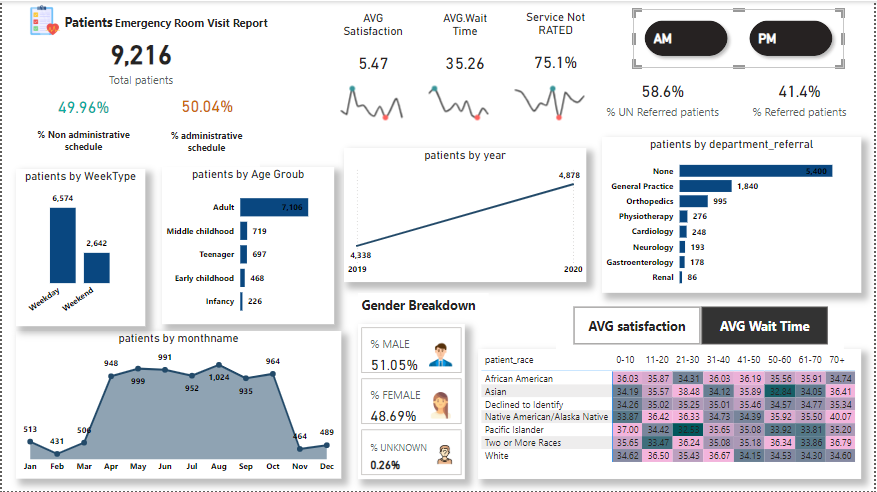

Layout of this report page (visuals, bound fields, positions):
{"tool":"powerbi","page":{"name":"Page 1","canvas":[1280,720],"ordinal":0},"visuals":[{"type":"card","fields":{"Values":["1_measurs.Total patients"]},"box":[64.7,33.8,279.2,104.3],"z":0},{"type":"card","fields":{"Values":["1_measurs.% administrative schedule"]},"box":[186.6,126.4,229.2,55.8],"z":1000},{"type":"card","fields":{"Values":["1_measurs.% non administrative schedule"]},"box":[20.6,127.8,198.4,55.8],"z":2000},{"type":"card","title":"AVG Satisfaction","fields":{"Values":["1_measurs.Avarage satisfaction score"]},"box":[480.5,14.7,129.3,113.1],"z":3000},{"type":"card","title":"Service Not RATED","fields":{"Values":["1_measurs.% NO Rating"]},"box":[749.4,13.2,127.8,114.6],"z":4000},{"type":"card","title":"AVG.Wait Time","fields":{"Values":["1_measurs.AVG Wait Time"]},"box":[623.8,14.7,111.7,113.1],"z":5000},{"type":"pivotTable","fields":{"Values":["1_measurs.AVG Wait Time"],"Rows":["patients datasets.patient_race"],"Columns":["patients datasets.AGE bins"]},"box":[699.4,511.3,562.8,191],"z":6000},{"type":"slicer","fields":{"Values":["Parameter.Parameter"]},"box":[814,442.3,423.2,69.1],"z":7000},{"type":"clusteredBarChart","title":"patients by Age Groub","fields":{"Category":["patients datasets.Age Groub"],"Y":["1_measurs.Total patients"]},"box":[235.1,243.9,252.7,230.7],"z":8000},{"type":"areaChart","title":"patients by monthname","fields":{"Y":["1_measurs.Total patients"],"Category":["date.monthname"]},"box":[20.6,484.9,477.6,217.5],"z":9000},{"type":"lineChart","title":"patients by year","fields":{"Category":["date.year"],"Y":["1_measurs.Total patients"]},"box":[502.5,216,355.6,196.9],"z":10000},{"type":"advancedSlicerVisual","fields":{"Values":["patients datasets.moment"]},"box":[927.2,11.8,310,86.7],"z":11000},{"type":"textbox","box":[35.3,182.2,169,61.7],"z":12000},{"type":"textbox","box":[221.9,183.7,157.2,60.2],"z":13000},{"type":"clusteredBarChart","title":"patients by department_referral","fields":{"Y":["1_measurs.Total patients"],"Category":["patients datasets.department_referral"]},"box":[881.6,199.8,380.6,229.2],"z":14000},{"type":"card","fields":{"Values":["1_measurs.% UN Referred patients"]},"box":[877.2,101.4,186.6,80.8],"z":15000},{"type":"card","fields":{"Values":["1_measurs.% Referred patients"]},"box":[1063.8,101.4,216,80.8],"z":16000},{"type":"columnChart","title":"patients by WeekType","fields":{"Category":["date.WeekType"],"Y":["1_measurs.Total patients"]},"box":[20.6,246.9,189.6,230.7],"z":17000},{"type":"cardVisual","fields":{"Data":["1_measurs.% MALE","1_measurs.% FEMALE","1_measurs.% UNKNOWN"]},"box":[523.1,474.6,157.2,227.8],"z":18000},{"type":"PBI_CV_25997FEB_F466_44FA_B562_AC4063283C4C","fields":{"axis":["date.monthname"],"measure":["1_measurs.Avarage satisfaction score"]},"box":[480.5,111.7,129.3,70.5],"z":19000},{"type":"PBI_CV_25997FEB_F466_44FA_B562_AC4063283C4C","fields":{"axis":["date.monthname"],"measure":["1_measurs.AVG Wait Time"]},"box":[609.8,111.7,126.4,70.5],"z":20000},{"type":"PBI_CV_25997FEB_F466_44FA_B562_AC4063283C4C","fields":{"measure":["1_measurs.% administrative schedule"],"axis":["date.monthname"]},"box":[736.2,111.7,141.1,70.5],"z":20001},{"type":"textbox","box":[86.7,13.2,377.6,42.6],"z":20002},{"type":"image","box":[29.4,0,67.6,55.8],"z":20003},{"type":"textbox","box":[523.1,429.1,192.5,35.3],"z":20004}]}

Visuals, with their boxes in screenshot pixels (x1, y1, x2, y2), scaled from the page's 1280x720 canvas onto the 877x492 screenshot:
card - 1_measurs.Total patients: region(44, 23, 236, 94)
card - 1_measurs.% administrative schedule: region(128, 86, 285, 125)
card - 1_measurs.% non administrative schedule: region(14, 87, 150, 125)
"AVG Satisfaction" card: region(329, 10, 418, 87)
"Service Not RATED" card: region(513, 9, 601, 87)
"AVG.Wait Time" card: region(427, 10, 504, 87)
pivotTable - 1_measurs.AVG Wait Time x patients datasets.patient_race: region(479, 349, 865, 480)
slicer - Parameter.Parameter: region(558, 302, 848, 349)
"patients by Age Groub" clusteredBarChart: region(161, 167, 334, 324)
"patients by monthname" areaChart: region(14, 331, 341, 480)
"patients by year" lineChart: region(344, 148, 588, 282)
advancedSlicerVisual - patients datasets.moment: region(635, 8, 848, 67)
textbox: region(24, 125, 140, 167)
textbox: region(152, 126, 260, 167)
"patients by department_referral" clusteredBarChart: region(604, 137, 865, 293)
card - 1_measurs.% UN Referred patients: region(601, 69, 729, 125)
card - 1_measurs.% Referred patients: region(729, 69, 876, 125)
"patients by WeekType" columnChart: region(14, 169, 144, 326)
cardVisual - 1_measurs.% MALE x 1_measurs.% FEMALE: region(358, 324, 466, 480)
PBI_CV_25997FEB_F466_44FA_B562_AC4063283C4C - date.monthname x 1_measurs.Avarage satisfaction score: region(329, 76, 418, 125)
PBI_CV_25997FEB_F466_44FA_B562_AC4063283C4C - date.monthname x 1_measurs.AVG Wait Time: region(418, 76, 504, 125)
PBI_CV_25997FEB_F466_44FA_B562_AC4063283C4C - 1_measurs.% administrative schedule x date.monthname: region(504, 76, 601, 125)
textbox: region(59, 9, 318, 38)
image: region(20, 0, 66, 38)
textbox: region(358, 293, 490, 317)
